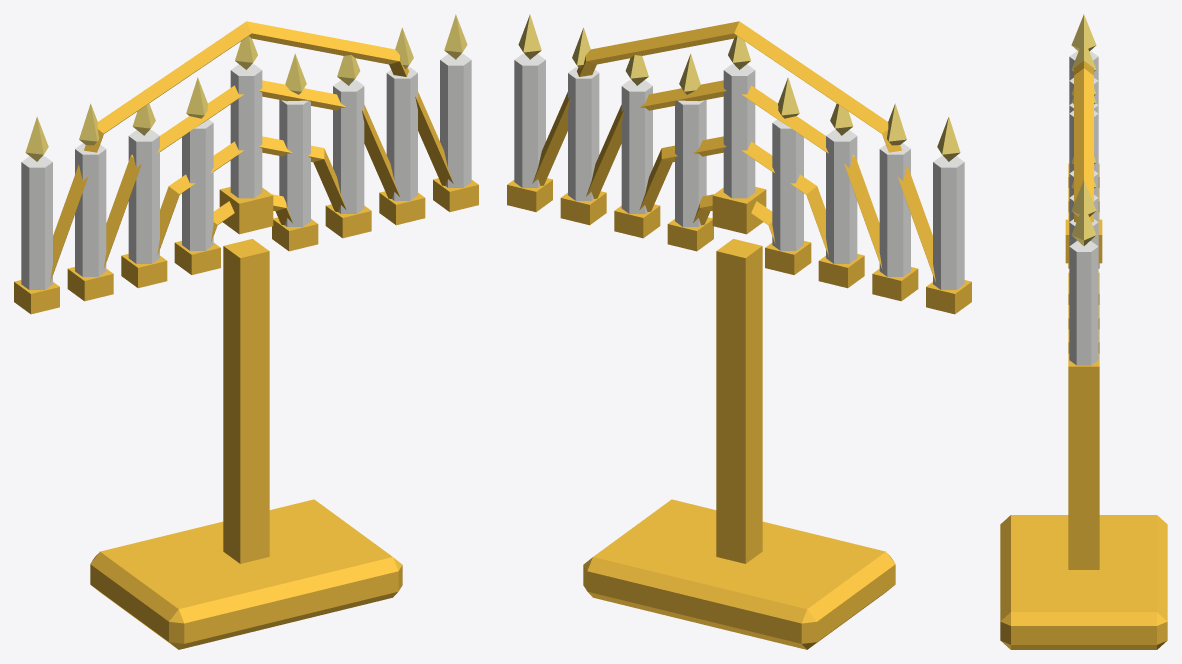
Rendered from Menorah.fbx.
3 renders of one model, left to right at view 1: azimuth 30°, elevation 25°; view 2: azimuth 150°, elevation 25°; view 3: azimuth 270°, elevation 25°, orthographic. The views are drawn at different scales.
Parts seen in each view (by area): view 1: Menorah; view 2: Menorah; view 3: Menorah.
Boxes of the visible parts, left/top/right/bottom form: Menorah: left=14, top=14, right=478, bottom=649; Menorah: left=507, top=14, right=971, bottom=649; Menorah: left=1000, top=14, right=1167, bottom=649.
Bounding box in the file's own units: 4.6 × 5.63 × 1.6.
1 material, 1 textured.
